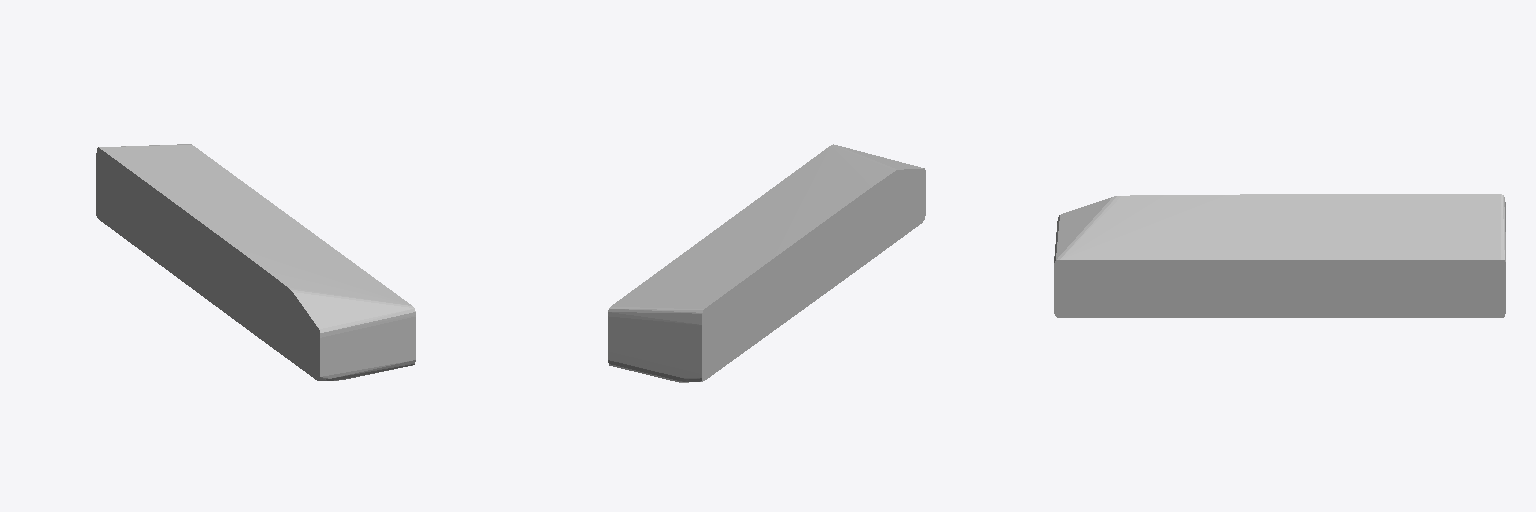
Rendered from Carbon_Mov_Finger_021_v1_1_mesh_collision_1.obj.
The picture shows the model from 3 angles: view 1: azimuth 30°, elevation 25°; view 2: azimuth 150°, elevation 25°; view 3: azimuth 270°, elevation 25°; orthographic projection.
Size of the model in its own units: 0.0055 by 0.0044 by 0.0231.